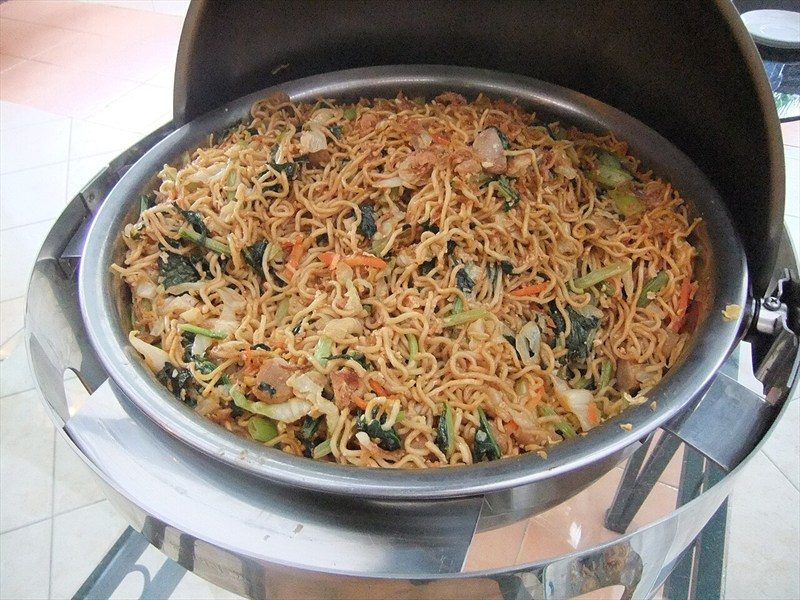Mie Goreng: (142, 89, 768, 466)
